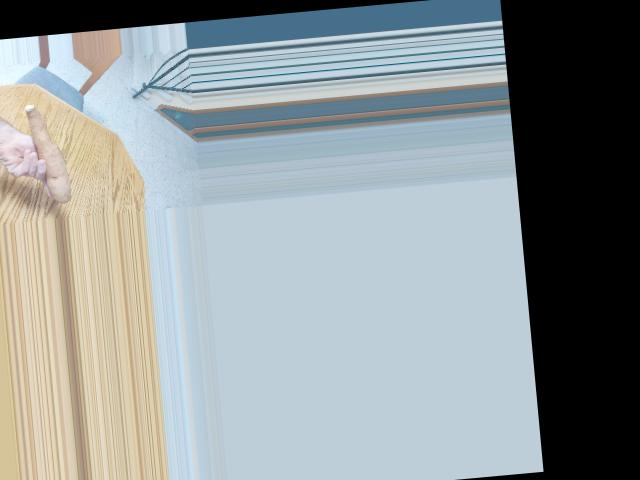sweet_potato: (23, 98, 78, 203)
